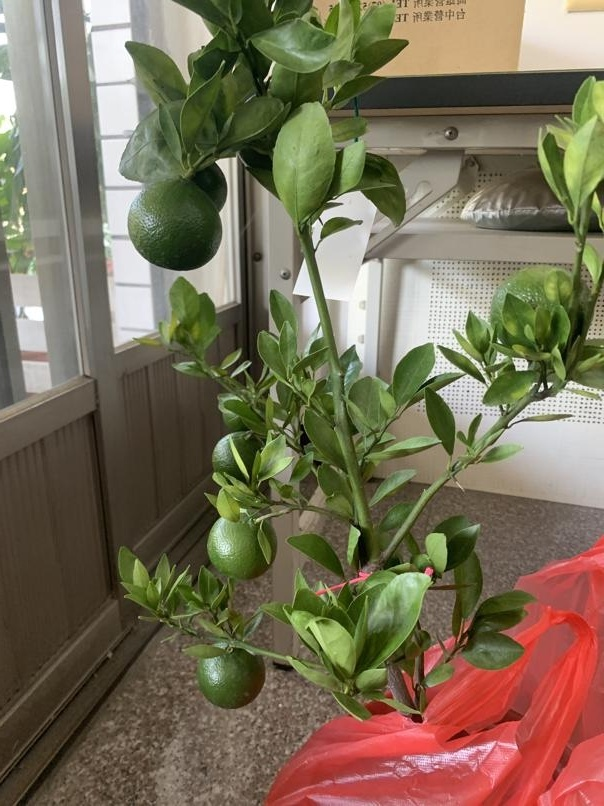Tangerine: (126, 178, 224, 272), (203, 509, 280, 577), (196, 640, 267, 710)
